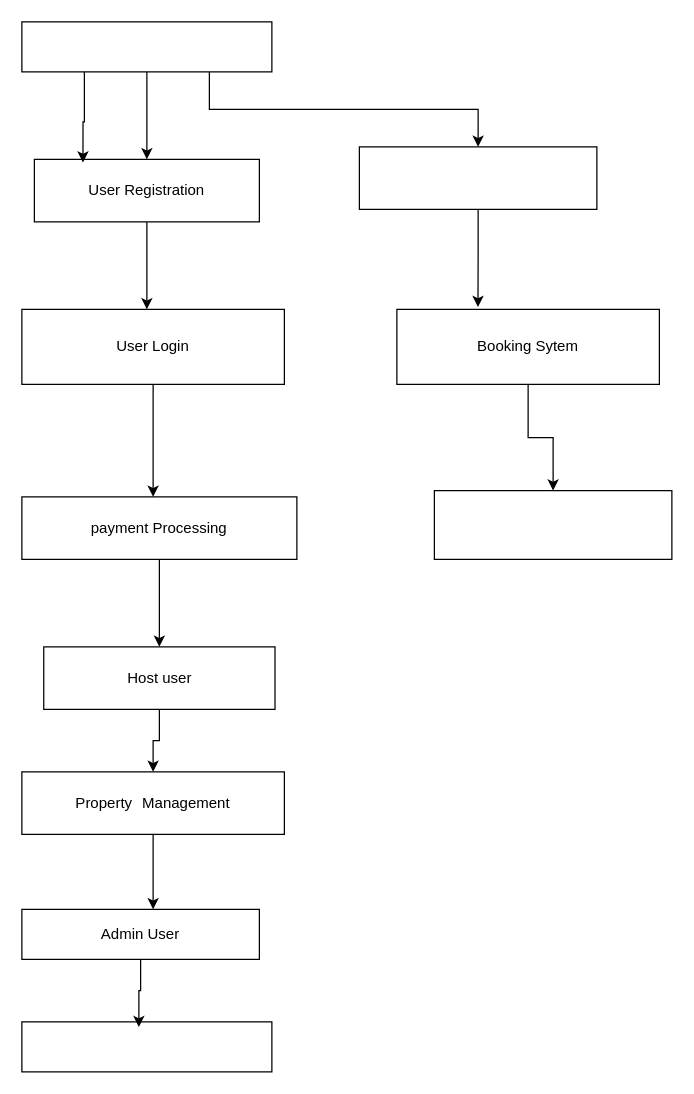
This 694x1094 diagram has some shape labels left out. The centre of each missing label's shape, as x and y in pixels:
"Admin Management" goes at (x=146, y=1046).
"Guest User" goes at (x=146, y=46).
"property Search" goes at (x=477, y=177).
"Review & Rating" goes at (x=552, y=524).
